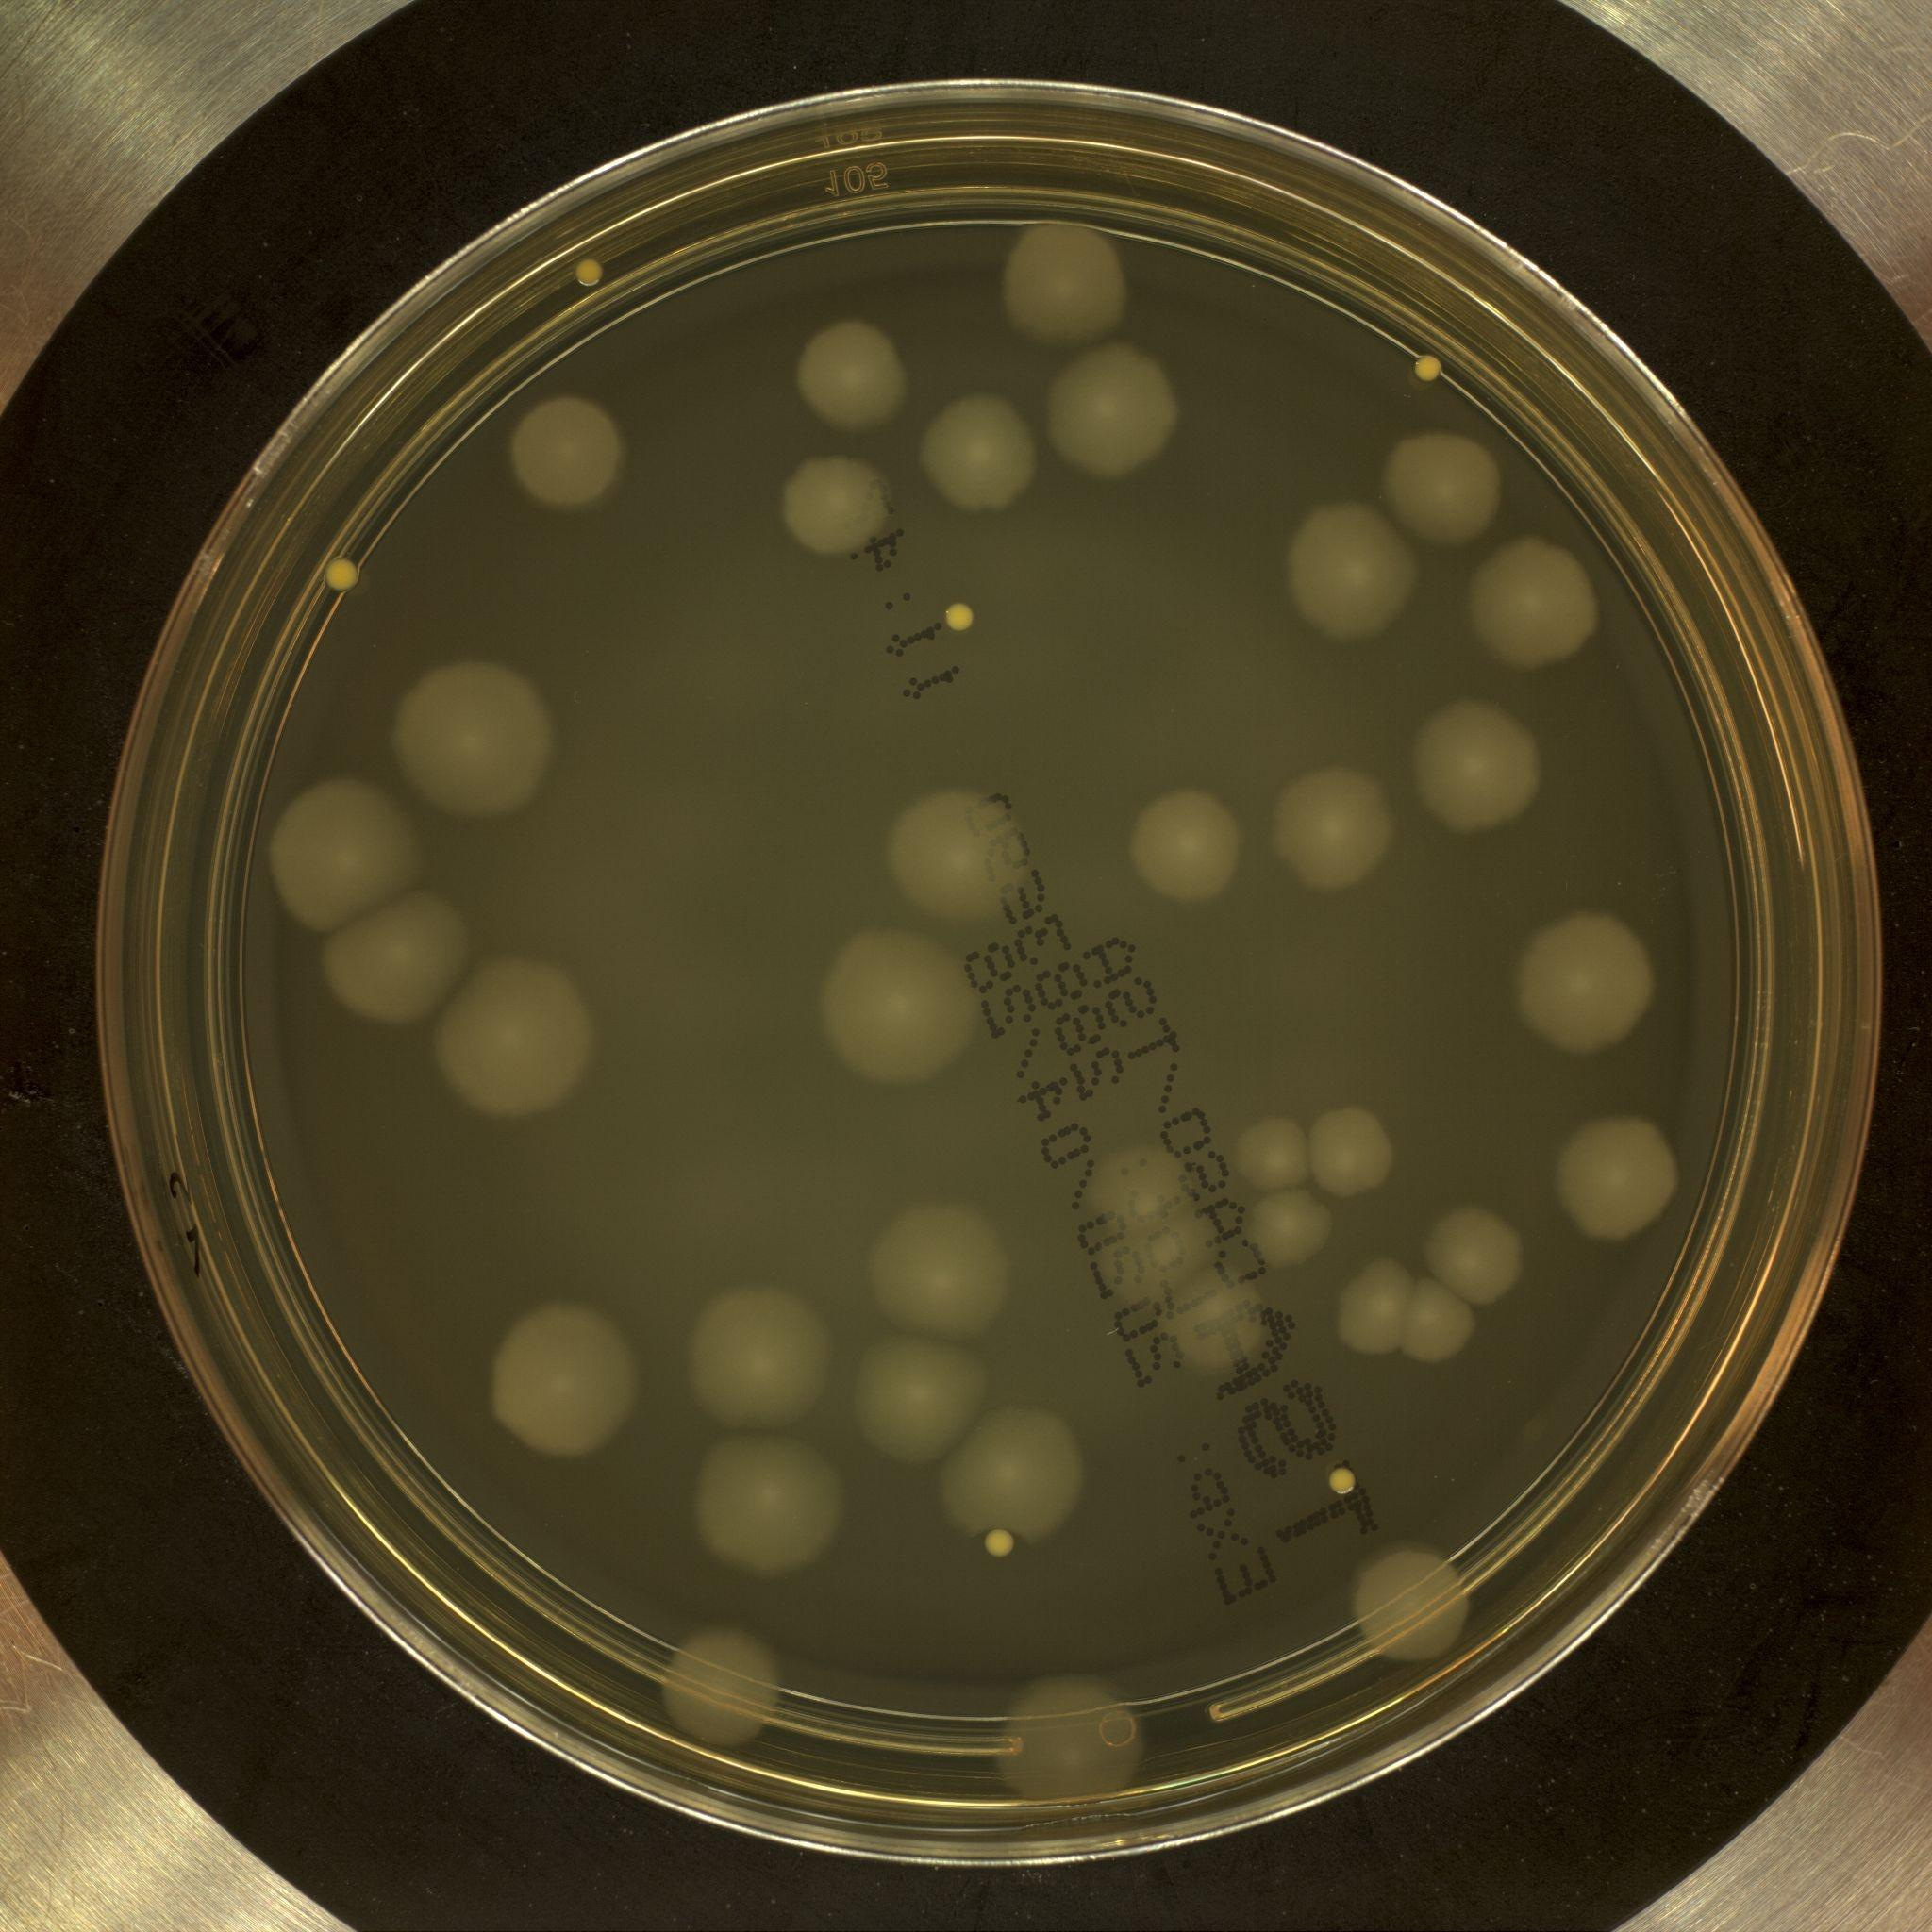e. coli: (440, 962, 600, 1121), (392, 662, 550, 819), (817, 926, 977, 1080), (258, 791, 430, 924), (1078, 1146, 1212, 1307), (941, 1406, 1088, 1547), (489, 1300, 628, 1445), (1281, 492, 1420, 637), (1515, 908, 1656, 1047), (1003, 1672, 1141, 1813), (888, 797, 1026, 932), (857, 1332, 1000, 1460), (328, 891, 473, 1019), (694, 1283, 828, 1420), (699, 1441, 833, 1577), (1470, 533, 1602, 668), (1413, 703, 1545, 838), (995, 219, 1133, 344), (1052, 347, 1182, 479), (1276, 769, 1408, 896), (875, 1212, 1008, 1335), (1125, 781, 1250, 906), (661, 1627, 784, 1753), (1355, 1547, 1479, 1670), (1562, 1111, 1684, 1236), (508, 389, 625, 511), (925, 394, 1042, 517), (1392, 434, 1500, 542), (798, 328, 906, 434), (1168, 1274, 1262, 1387), (789, 453, 890, 557), (1333, 1255, 1423, 1363), (1427, 1200, 1520, 1300), (1309, 1102, 1399, 1193), (1241, 1184, 1331, 1274), (1394, 1272, 1477, 1363), (1239, 1118, 1321, 1193)
